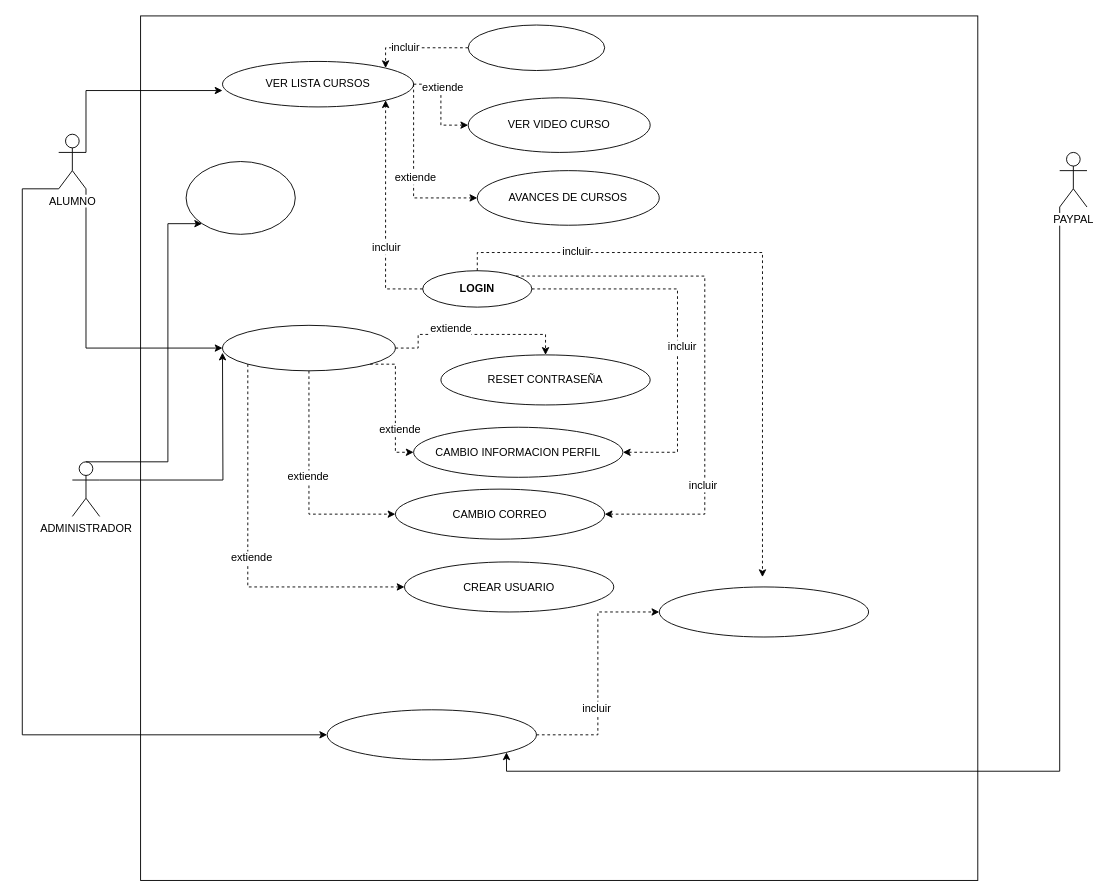
The diagram is 1109 pixels wide and 896 high, and some of its shapes have lost their labels. The centre of each missing label's shape, as x and y in pixels:
"ADMINISTRADOR USURIO" goes at [308,347].
"GESTION PAGO" goes at [431,734].
"LISTA PAGOS" goes at [763,611].
"SUSCRIPCION DE USUARIO" goes at [536,47].
"TEMPLATE PAGE" goes at [240,197].
